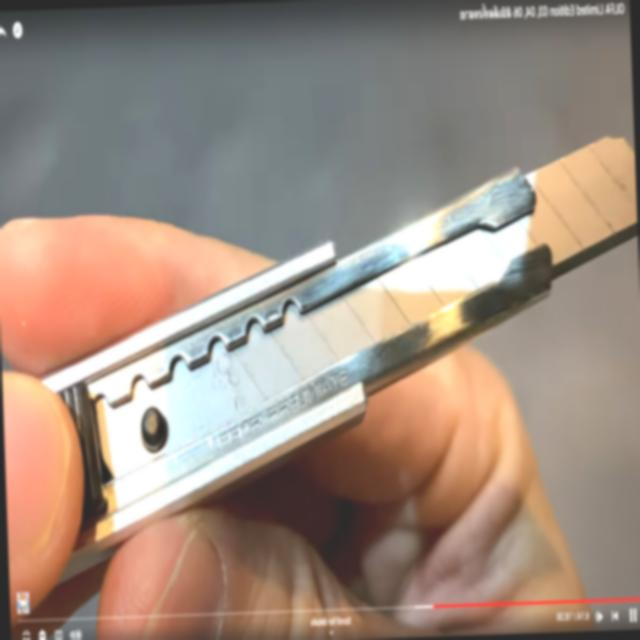cutter: (6, 82, 639, 604)
